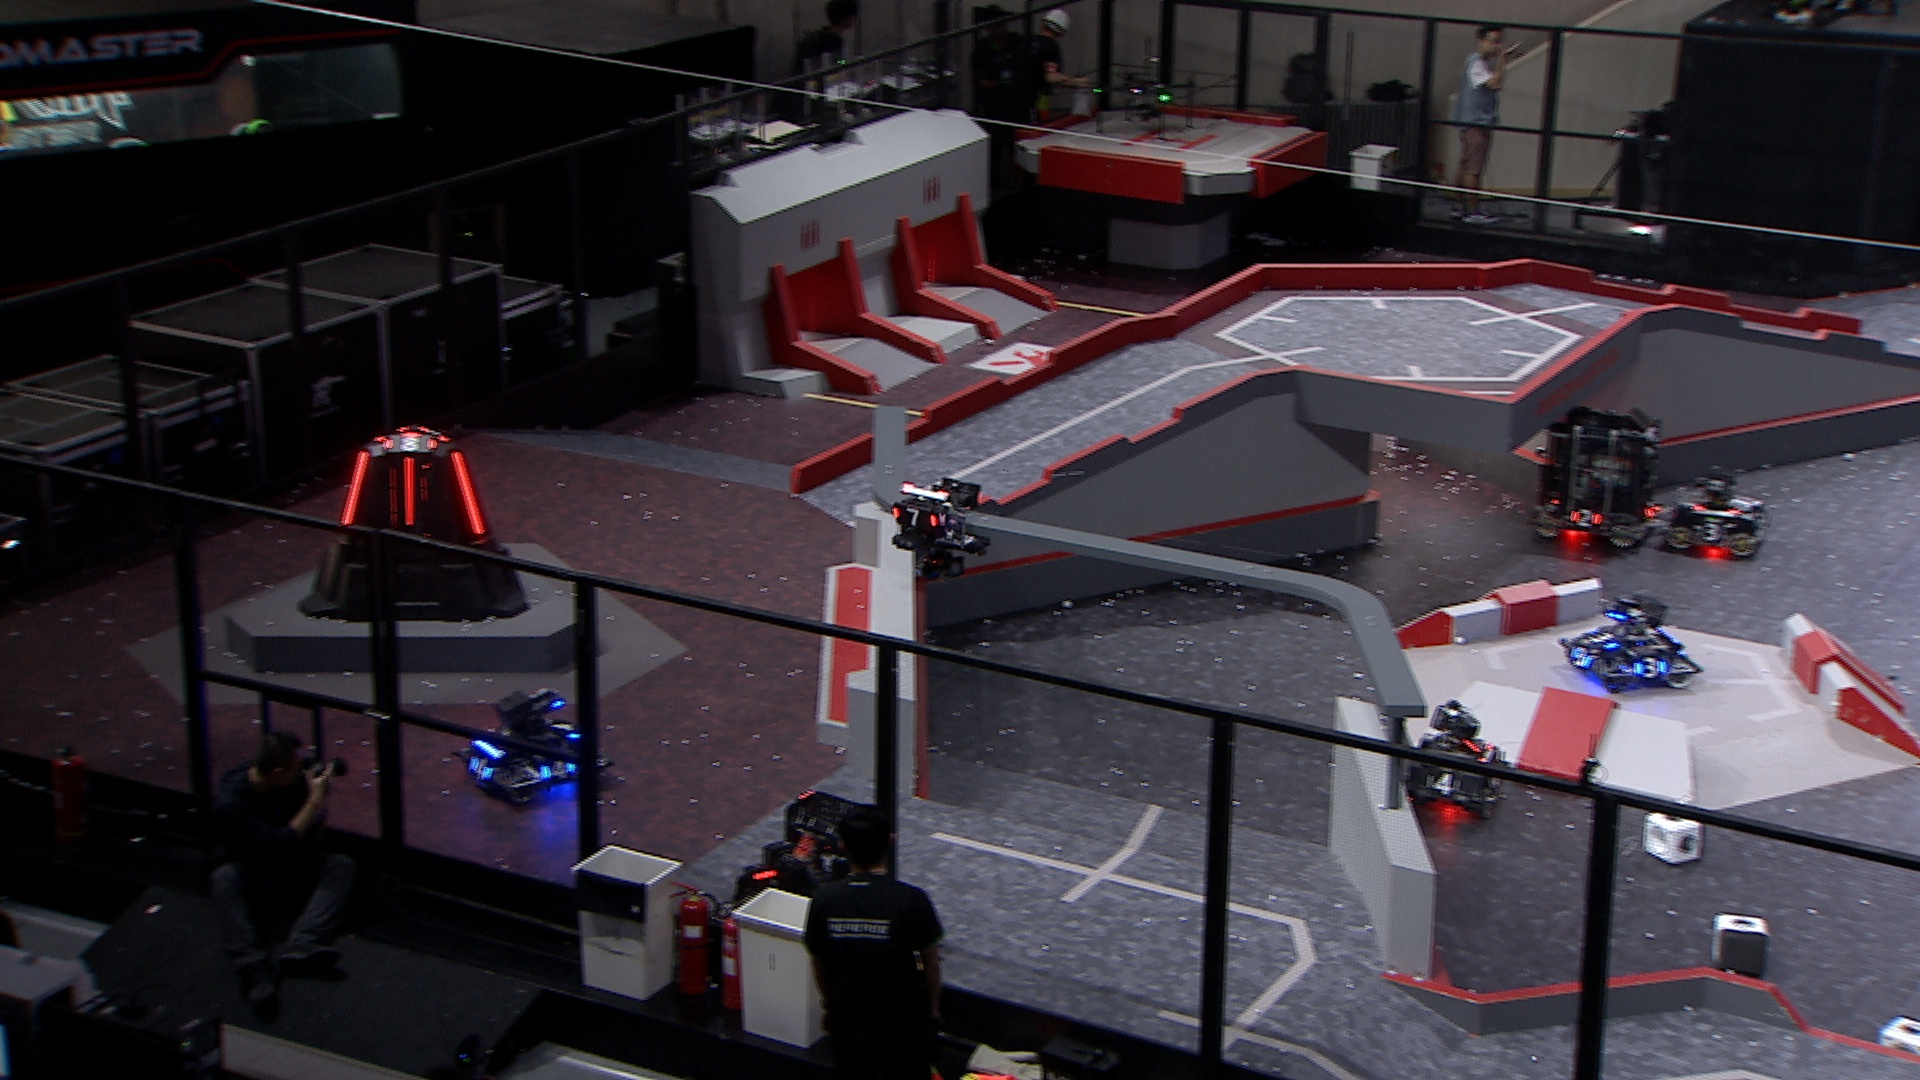armor: (448, 450, 485, 537), (339, 450, 371, 527), (385, 433, 439, 458), (889, 505, 942, 529), (401, 458, 418, 527), (467, 752, 498, 785), (1423, 773, 1462, 798), (1633, 655, 1669, 680), (1589, 628, 1623, 651), (542, 761, 580, 782), (1567, 509, 1604, 529), (1697, 524, 1731, 543), (550, 721, 583, 741), (1569, 645, 1594, 670), (1727, 495, 1755, 512)
base: (297, 423, 531, 626)
car: (717, 789, 905, 967), (448, 687, 615, 800), (1531, 407, 1662, 550), (1561, 589, 1702, 692), (1400, 698, 1506, 822), (1660, 465, 1774, 560)
watcher: (887, 477, 992, 583)
